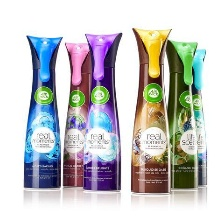aerosol_cans: (128, 23, 178, 197), (19, 32, 71, 192), (79, 27, 125, 194), (61, 37, 104, 190), (161, 36, 199, 192), (180, 44, 209, 189)
